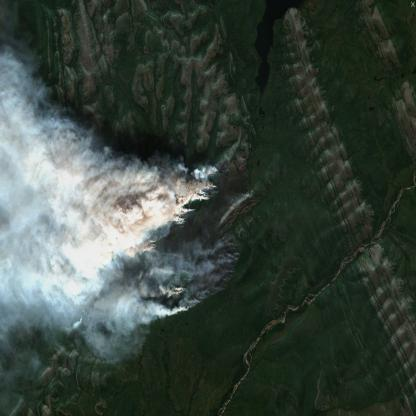fire: (131, 155, 256, 314)
